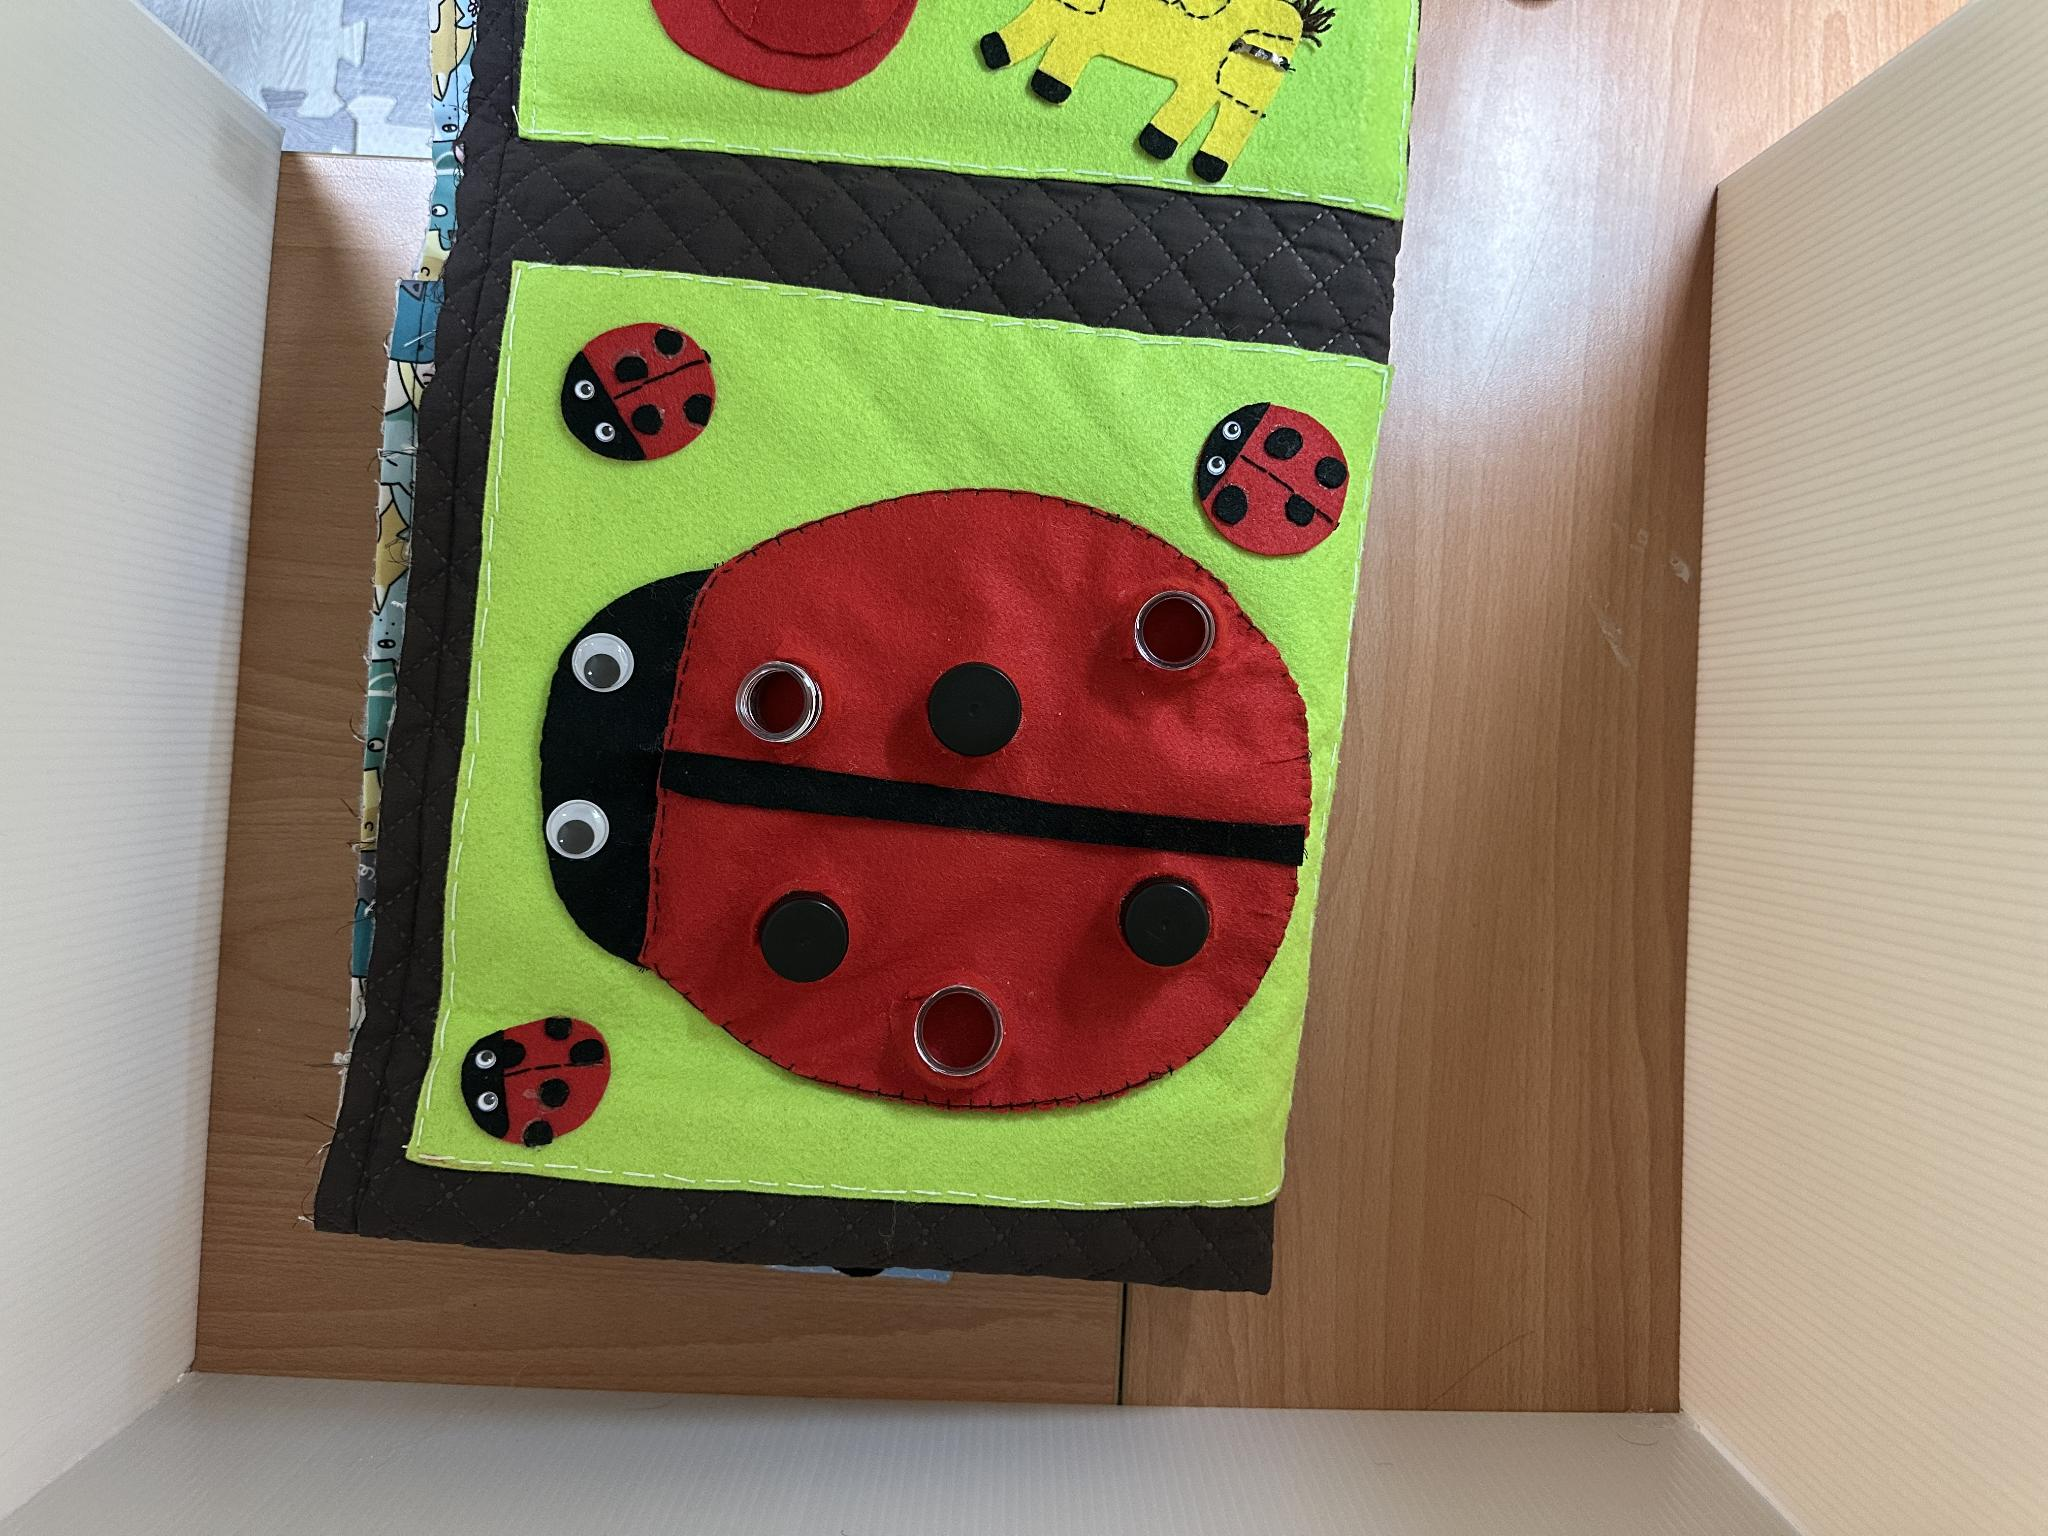cap_ok: (739, 870, 868, 1007), (918, 652, 1042, 773), (1100, 865, 1226, 976)
